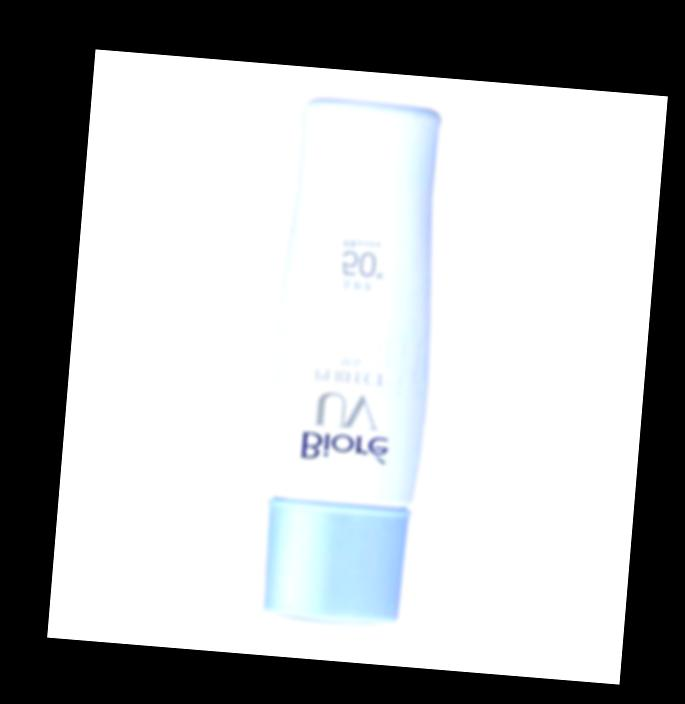cosmetic: (256, 100, 448, 621)
